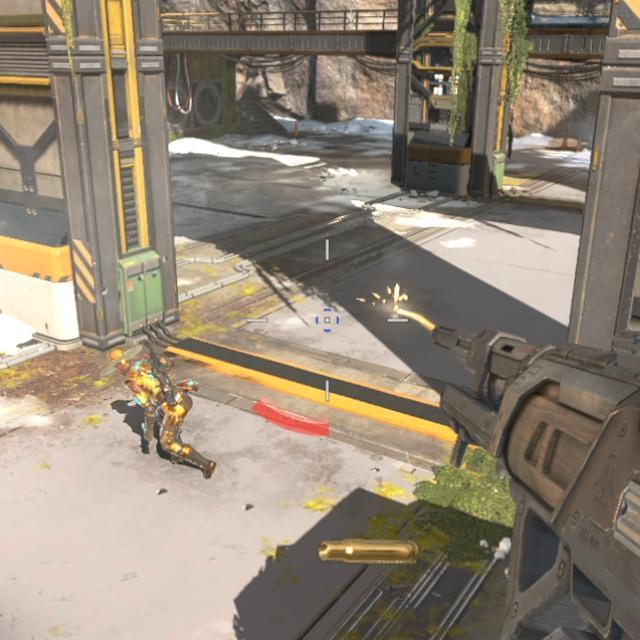avatar: (106, 343, 192, 463)
